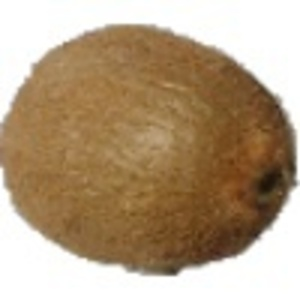kiwi: (1, 22, 300, 278)
